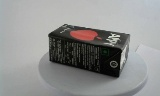appy: (44, 23, 121, 78)
